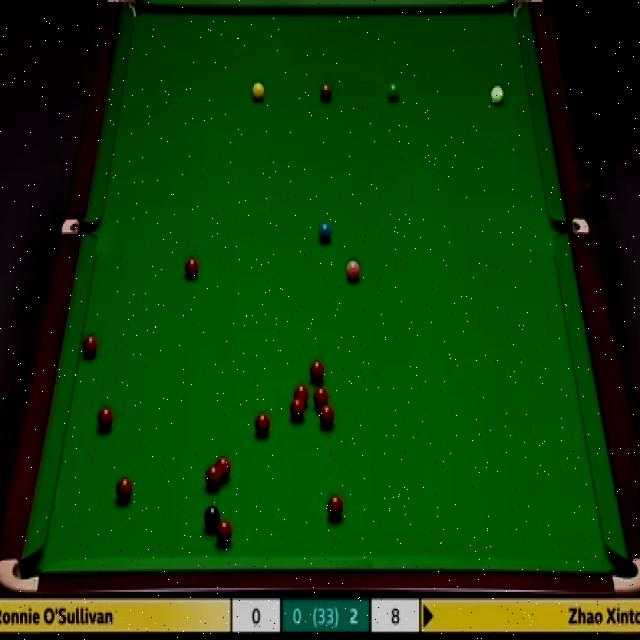black-ball: (204, 504, 223, 528)
blue-ball: (318, 219, 332, 246)
brown-ball: (319, 82, 333, 102)
green-ball: (386, 82, 399, 101)
pink-ball: (346, 262, 362, 284)
red-ball: (326, 490, 344, 522), (112, 475, 132, 502), (252, 409, 270, 438), (81, 334, 100, 361), (94, 404, 112, 431), (292, 382, 310, 408), (205, 464, 222, 489), (308, 360, 327, 382), (289, 398, 306, 422), (217, 520, 232, 547), (217, 457, 234, 480), (316, 390, 332, 414), (184, 259, 200, 278), (320, 404, 334, 425)
white-ball: (491, 83, 504, 107)
yellow-ball: (251, 82, 265, 102)
